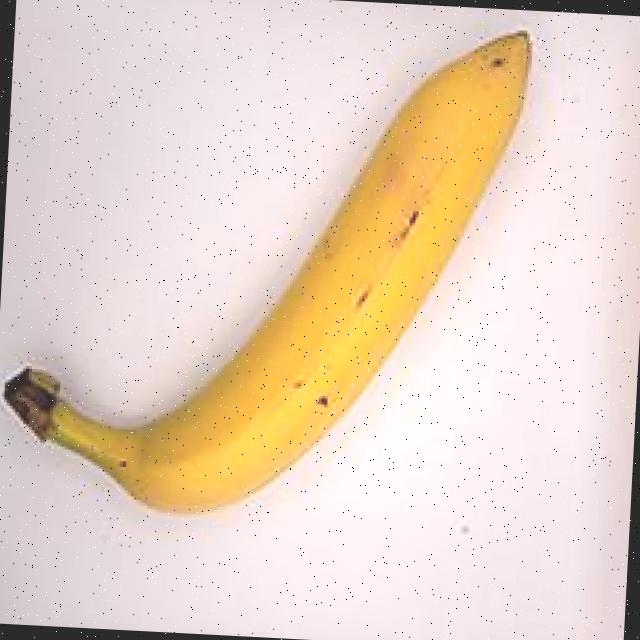Ripe: (0, 0, 548, 557)
